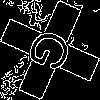G: (25, 25, 83, 80)
